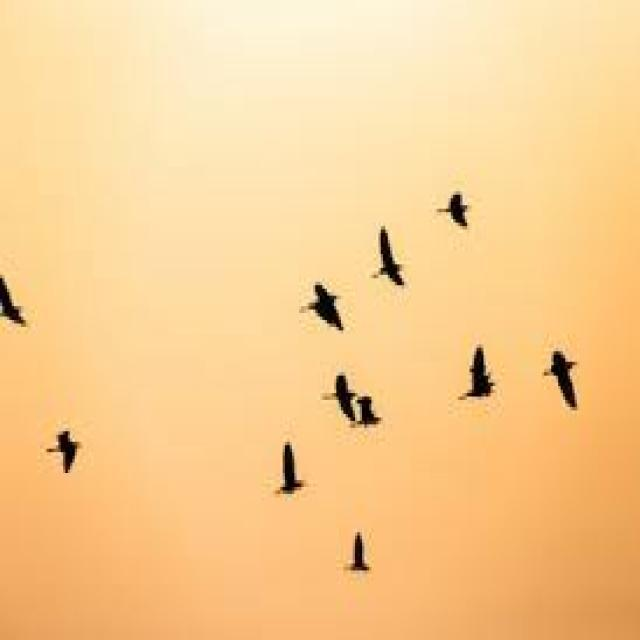bird: (523, 310, 589, 408), (428, 165, 494, 259), (446, 336, 512, 430), (280, 272, 367, 338), (35, 402, 89, 496), (367, 212, 427, 289), (253, 430, 314, 502), (338, 506, 386, 590), (0, 235, 33, 342), (316, 353, 350, 430), (352, 372, 384, 445)
